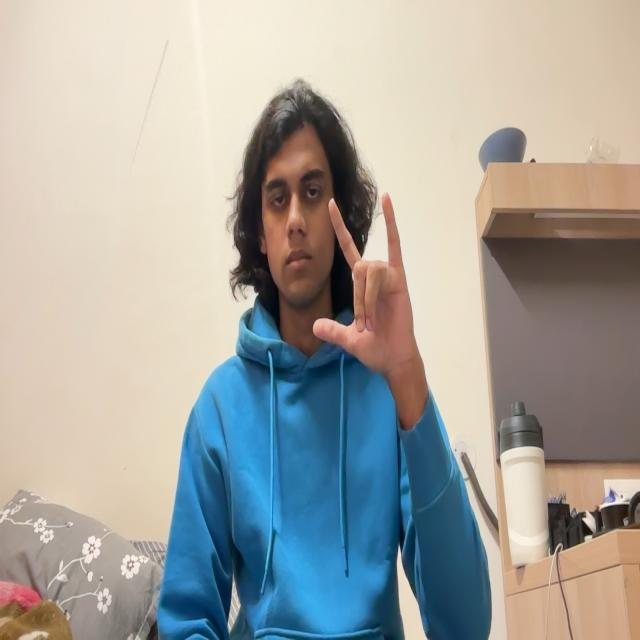Iloveyou: (314, 182, 443, 380)
